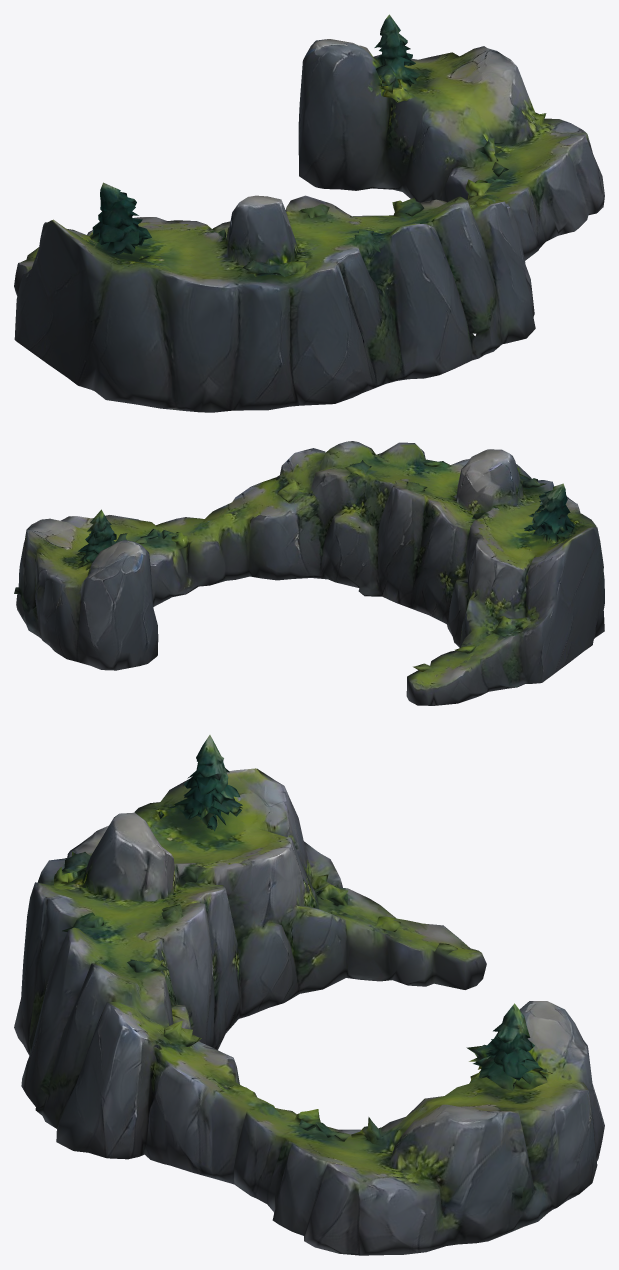
Rendered from khoi_19.glb.
3 renders of one model, top to bottom at view 1: azimuth 30°, elevation 25°; view 2: azimuth 150°, elevation 25°; view 3: azimuth 270°, elevation 25°, orthographic. The views are drawn at different scales.
Visible parts, largest first — view 1: tripo_node_69d1ecdc-75a3-49c7-85e4-93ceeef8ca9f; view 2: tripo_node_69d1ecdc-75a3-49c7-85e4-93ceeef8ca9f; view 3: tripo_node_69d1ecdc-75a3-49c7-85e4-93ceeef8ca9f.
Part boxes in pixels (box(x1,y1,x2,y2)): tripo_node_69d1ecdc-75a3-49c7-85e4-93ceeef8ca9f: box(14, 14, 604, 412); tripo_node_69d1ecdc-75a3-49c7-85e4-93ceeef8ca9f: box(14, 441, 604, 705); tripo_node_69d1ecdc-75a3-49c7-85e4-93ceeef8ca9f: box(14, 735, 604, 1255).
Size of the model in its own units: 1 by 0.3086 by 0.769.
Materials: 1 (1 with a texture image).
